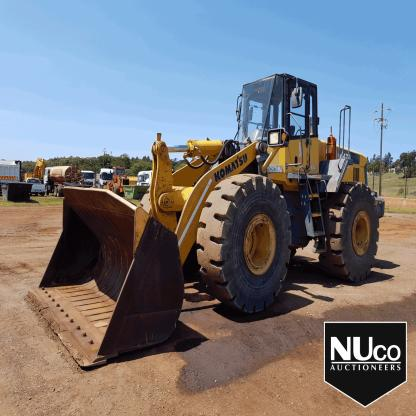bull_dozer/loader/grader: (30, 67, 384, 374)
